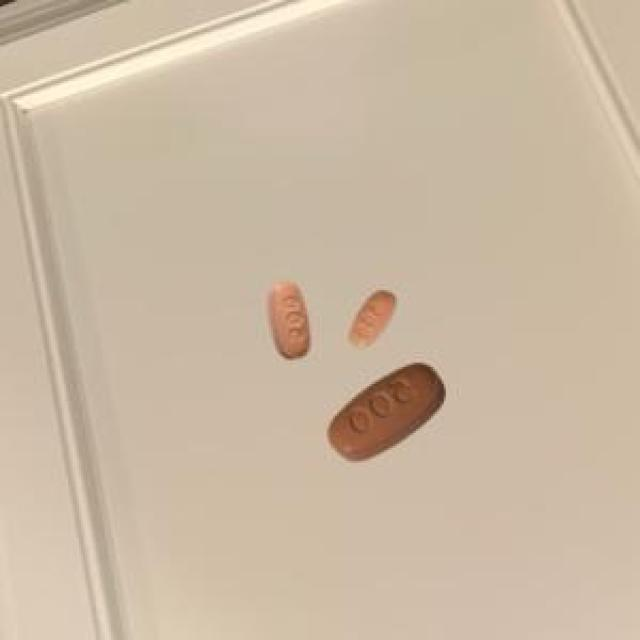Biogesic: (313, 360, 465, 472), (258, 270, 320, 370), (342, 280, 406, 356)
